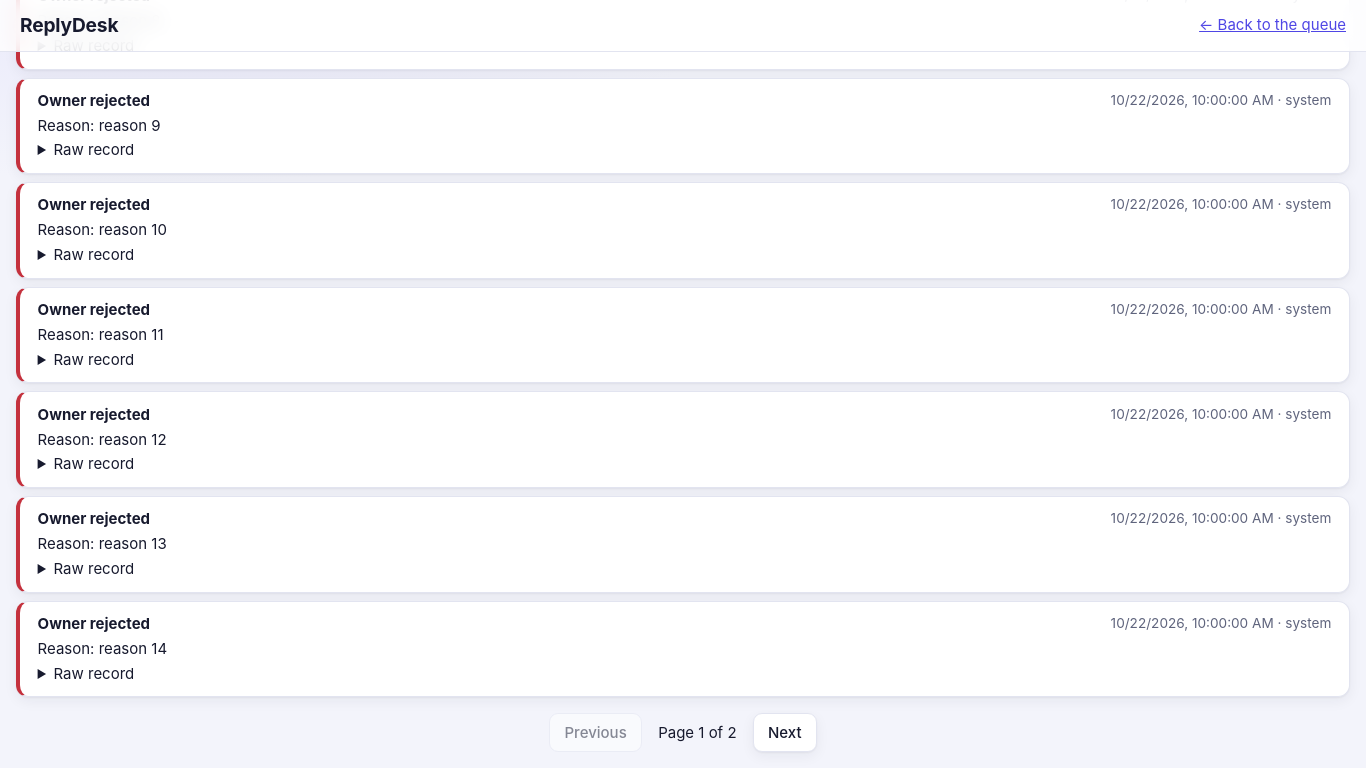
Scenario: the audit log page › pages a long trail
(page scrolled)
Expected: the text "Page 1 of 2" is shown, [658,722,736,744]
Expected: the text "Reason: reason 16" is not shown
Click the button "Next" at (785, 733), box [752,713,817,752]
(page scrolled)
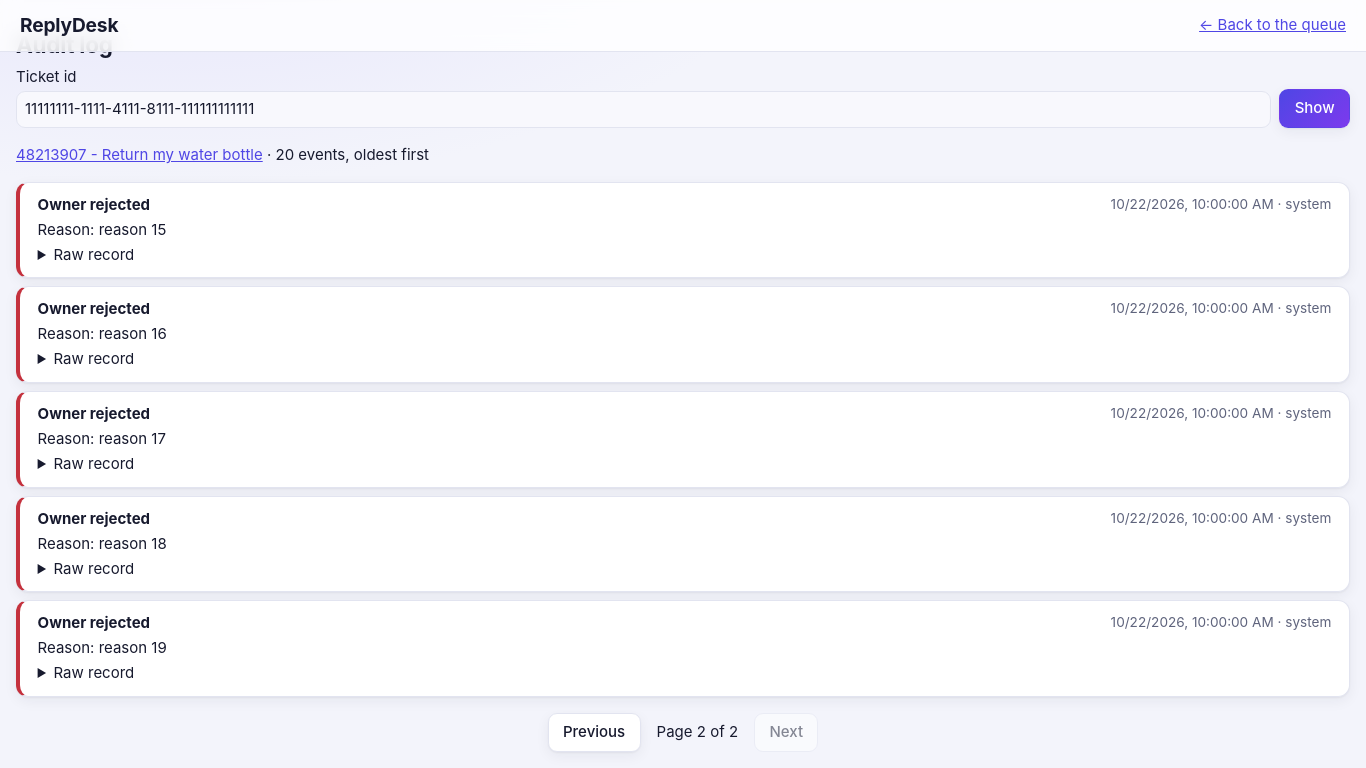
Expected: the text "Reason: reason 16" is shown, [38,324,167,343]
Expected: the text "Page 2 of 2" is shown, [657,721,738,744]
